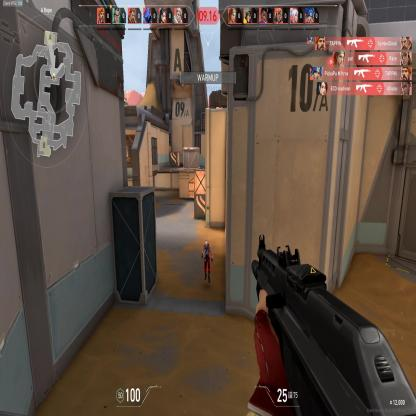enemy: (200, 236, 213, 284)
